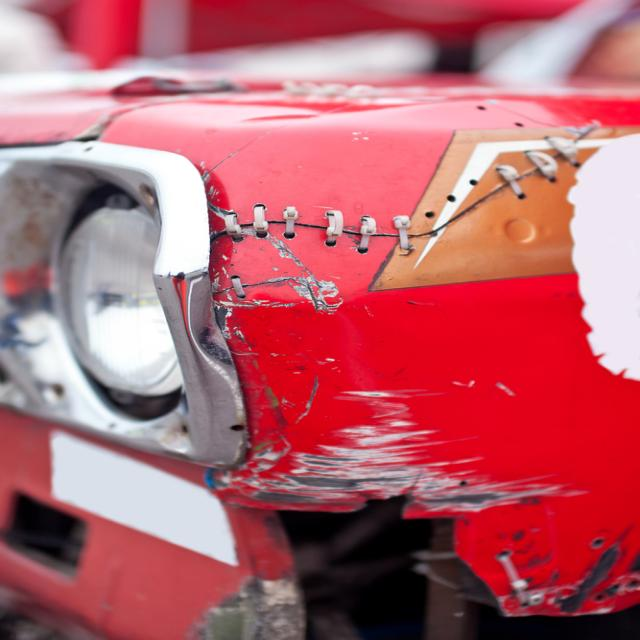scratch: (217, 224, 577, 513)
